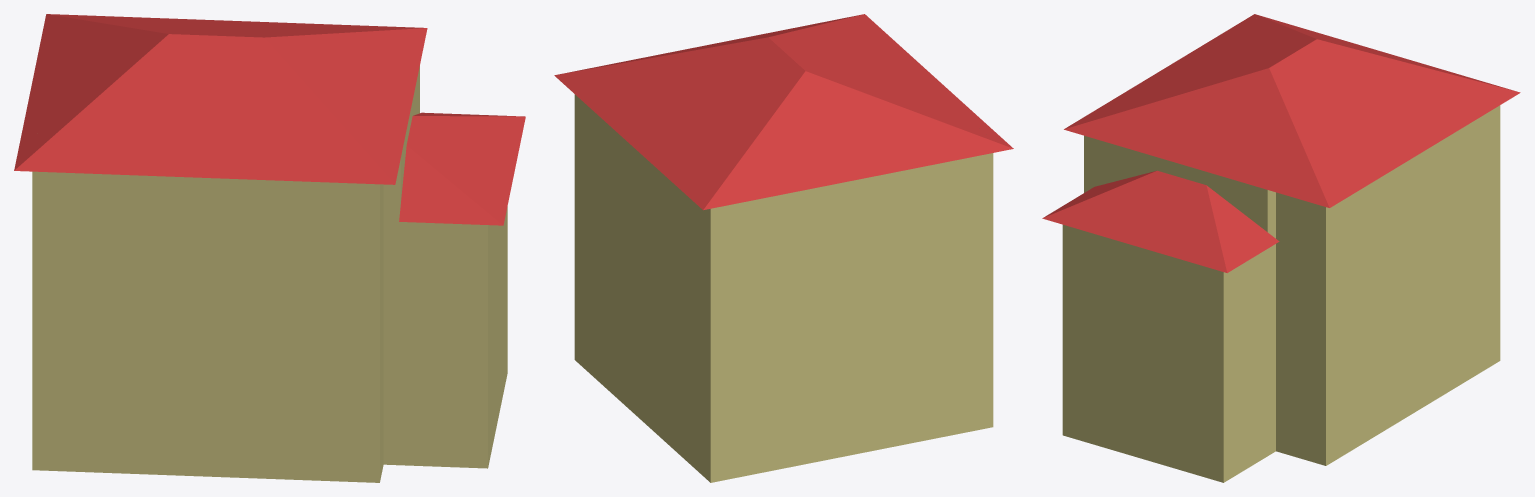
3 views of the same model, side by side, from view 1: azimuth 30°, elevation 25°; view 2: azimuth 150°, elevation 25°; view 3: azimuth 270°, elevation 25° (orthographic). The views are drawn at different scales.
Visible parts, largest first — view 1: group_5, group_3, group_9, group_7, group_4; view 2: group_5, group_3, group_4; view 3: group_5, group_3, group_9, group_7, group_4, group_8.
Part boxes in pixels (x1,y1,x2,y2): group_5: (32, 66, 419, 482); group_3: (14, 14, 423, 184); group_9: (400, 206, 507, 468); group_7: (399, 113, 525, 225); group_4: (14, 21, 427, 170); group_5: (574, 94, 993, 482); group_3: (555, 14, 1013, 210); group_4: (554, 60, 1013, 165); group_5: (1084, 105, 1500, 465); group_3: (1064, 14, 1520, 206); group_9: (1062, 225, 1267, 482); group_7: (1042, 170, 1267, 272); group_4: (1228, 14, 1430, 207); group_8: (1043, 211, 1279, 272).
Size of the model in its own units: 16.88 by 16.19 by 12.03.
